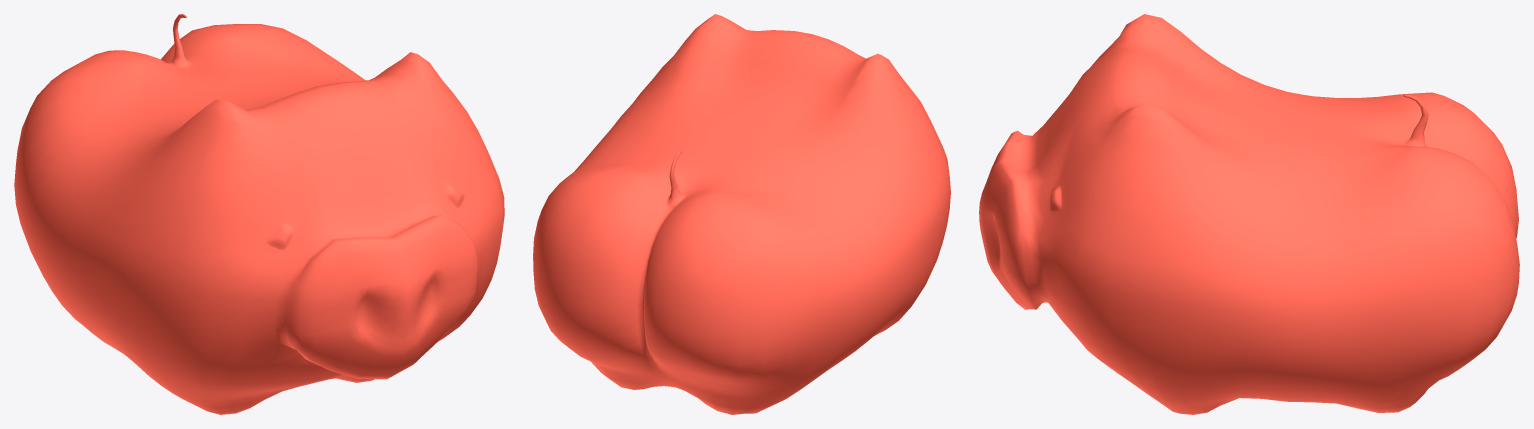
File: piggy_ballon.fbx
The picture shows the model from 3 angles, left to right: view 1: azimuth 30°, elevation 25°; view 2: azimuth 150°, elevation 25°; view 3: azimuth 270°, elevation 25°; orthographic projection. The views are drawn at different scales.
Parts seen in each view (by area): view 1: piggy_smoothed; view 2: piggy_smoothed; view 3: piggy_smoothed.
Part boxes in pixels (x1,y1,x2,y2): piggy_smoothed: (14, 14, 504, 414); piggy_smoothed: (533, 14, 950, 414); piggy_smoothed: (979, 14, 1519, 414).
Size of the model in its own units: 116 by 99.04 by 150.
